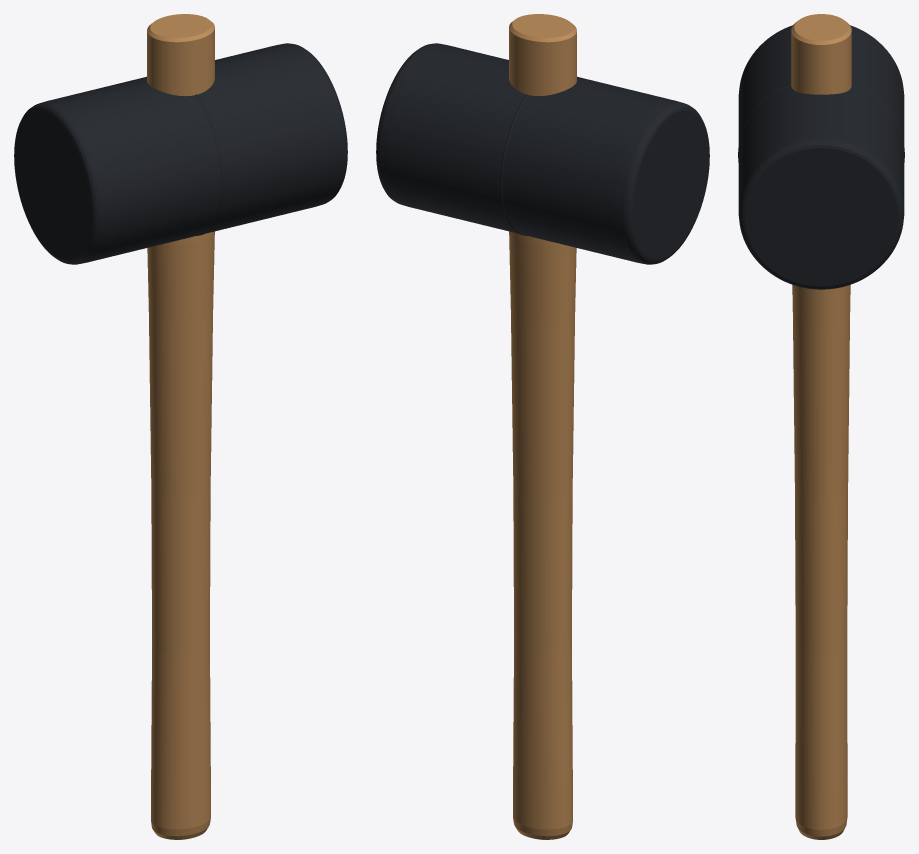
3 views of the same model, side by side, from view 1: azimuth 30°, elevation 25°; view 2: azimuth 150°, elevation 25°; view 3: azimuth 270°, elevation 25° (orthographic).
Visible parts, largest first — view 1: Black_rubber_head_with_through_eye, Continuous_wood_handle_unbranded; view 2: Black_rubber_head_with_through_eye, Continuous_wood_handle_unbranded; view 3: Black_rubber_head_with_through_eye, Continuous_wood_handle_unbranded.
Boxes of the visible parts, x1,y1,x2,y2 form: Black_rubber_head_with_through_eye: (14,43,347,264); Continuous_wood_handle_unbranded: (147,14,214,839); Black_rubber_head_with_through_eye: (376,43,709,264); Continuous_wood_handle_unbranded: (509,14,576,839); Black_rubber_head_with_through_eye: (738,25,904,289); Continuous_wood_handle_unbranded: (791,14,851,839).
Bounding box in the file's own units: 0.113 × 0.34 × 0.064.
